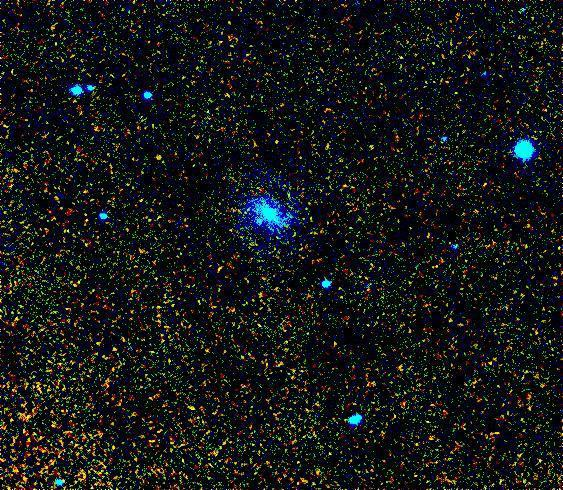star: (139, 146, 169, 176)
